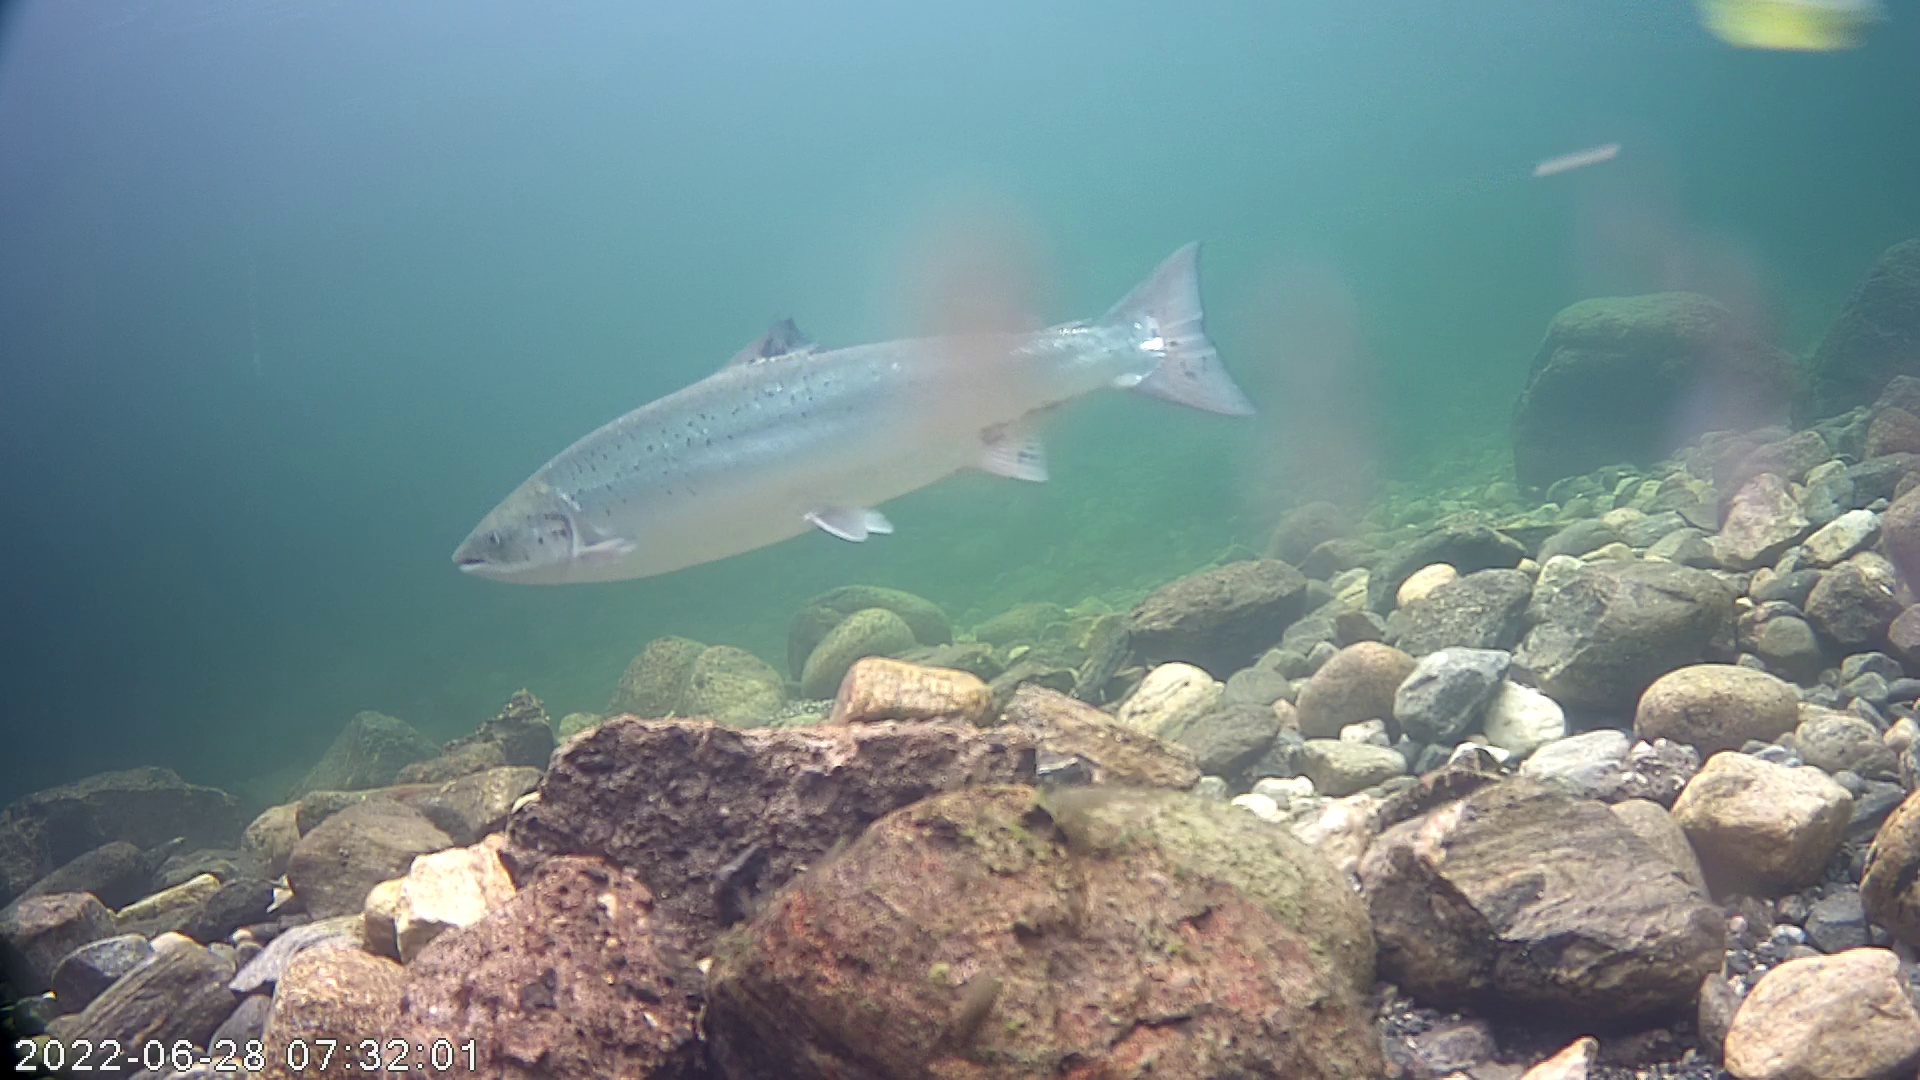salmon: (451, 173, 1278, 624)
